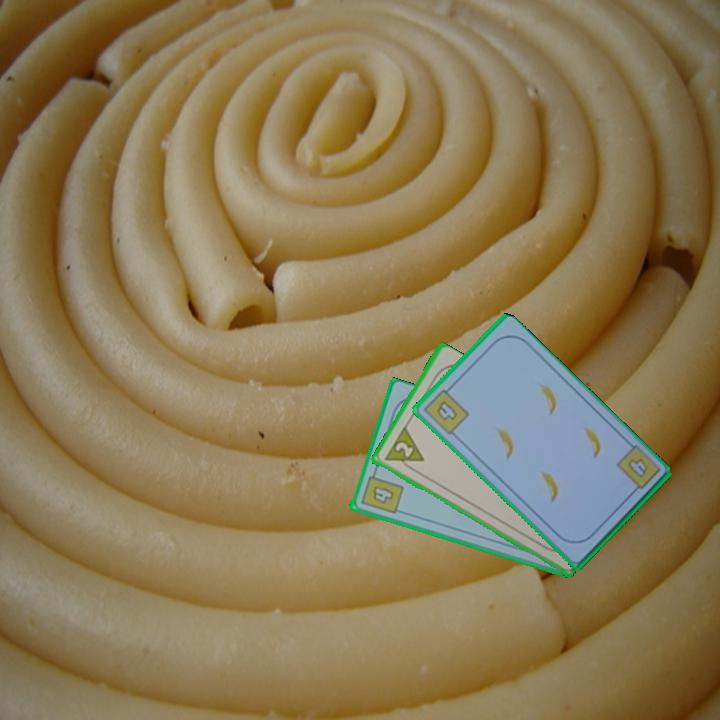2p: (380, 424, 427, 476)
4b: (420, 382, 472, 438), (357, 467, 406, 517), (623, 454, 651, 481)
